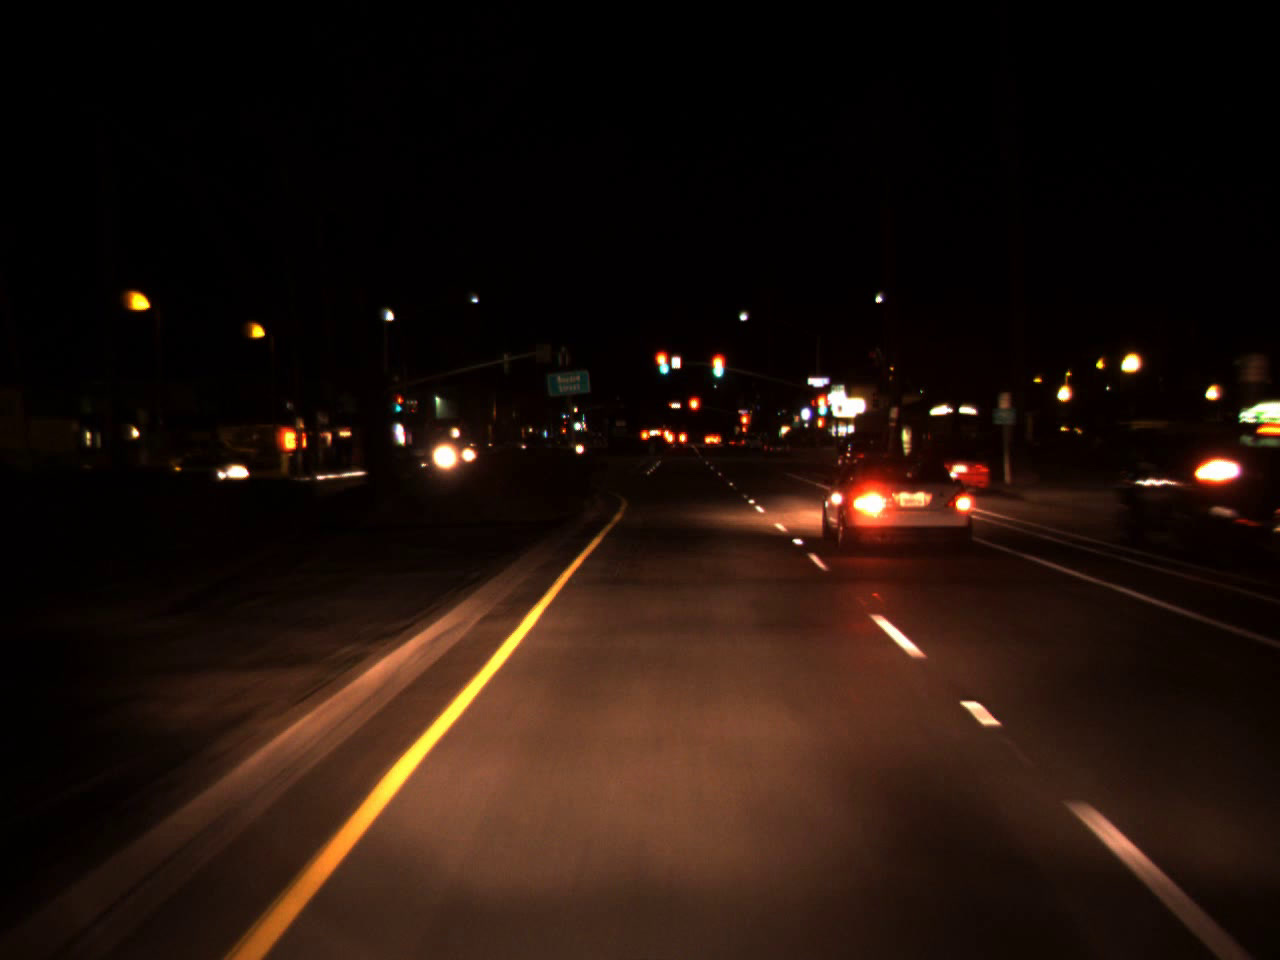stop: (814, 391, 830, 423), (710, 352, 726, 381), (653, 350, 669, 379), (687, 395, 700, 427), (739, 411, 749, 438), (390, 391, 402, 412)
